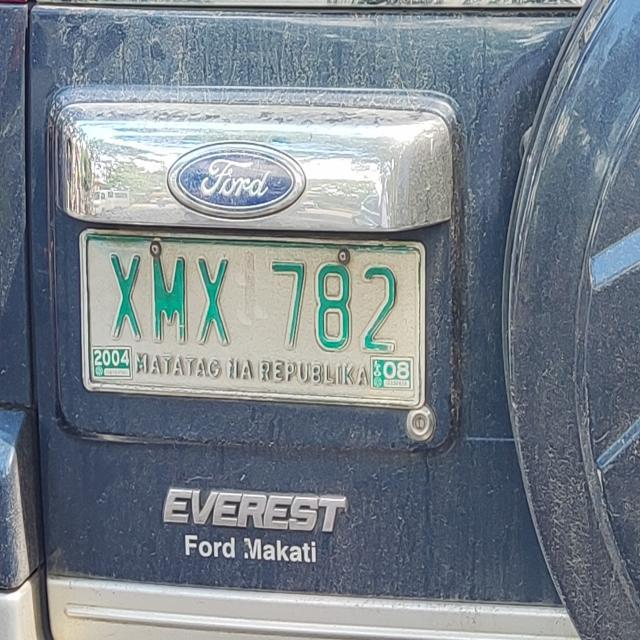LicensePlate: (62, 219, 437, 423)
